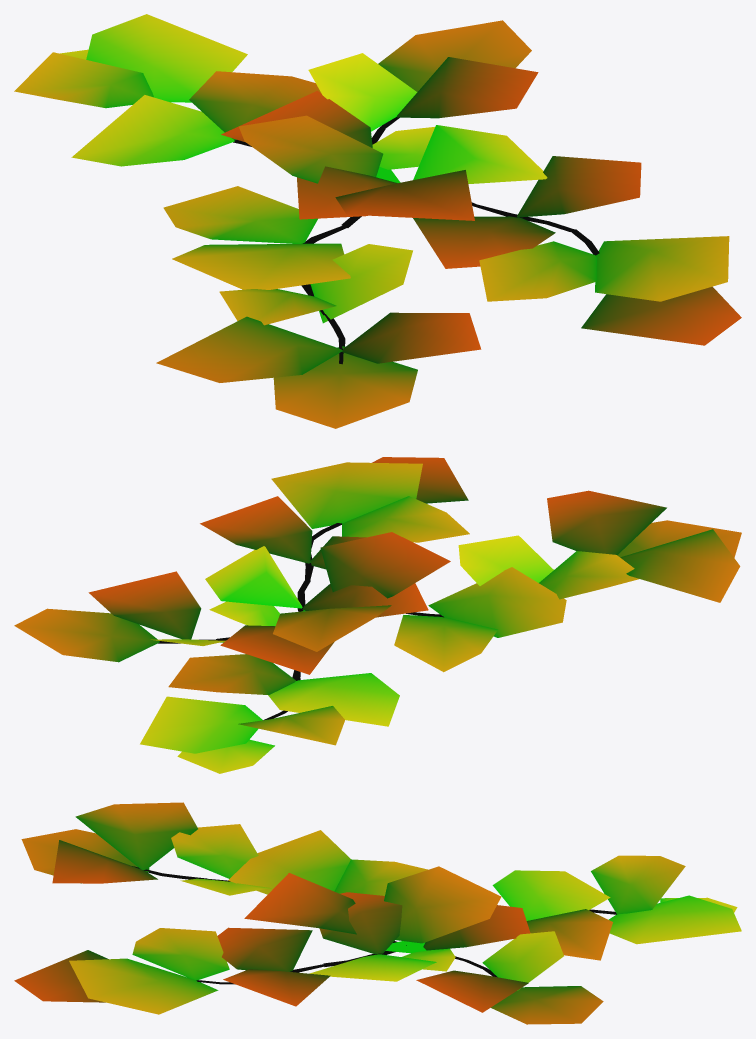
File: Mile-a-minute Vine_LOD1_Var5_sfqns.fbx
3 views of the same model, one above another, from view 1: azimuth 30°, elevation 25°; view 2: azimuth 150°, elevation 25°; view 3: azimuth 270°, elevation 25° (orthographic). The views are drawn at different scales.
Parts seen in each view (by area): view 1: _118b_Var5_LOD1; view 2: _118b_Var5_LOD1; view 3: _118b_Var5_LOD1.
Boxes of the visible parts, x1,y1,x2,y2 form: _118b_Var5_LOD1: [14, 14, 741, 428]; _118b_Var5_LOD1: [14, 457, 741, 773]; _118b_Var5_LOD1: [14, 802, 741, 1024].
Bounding box in the file's own units: 33.3 × 2.9 × 44.5.
